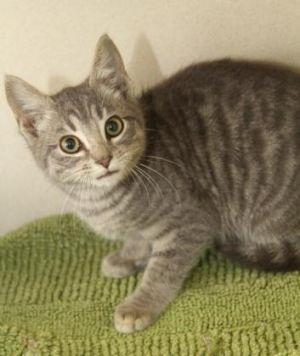bengal: (1, 31, 157, 200)
